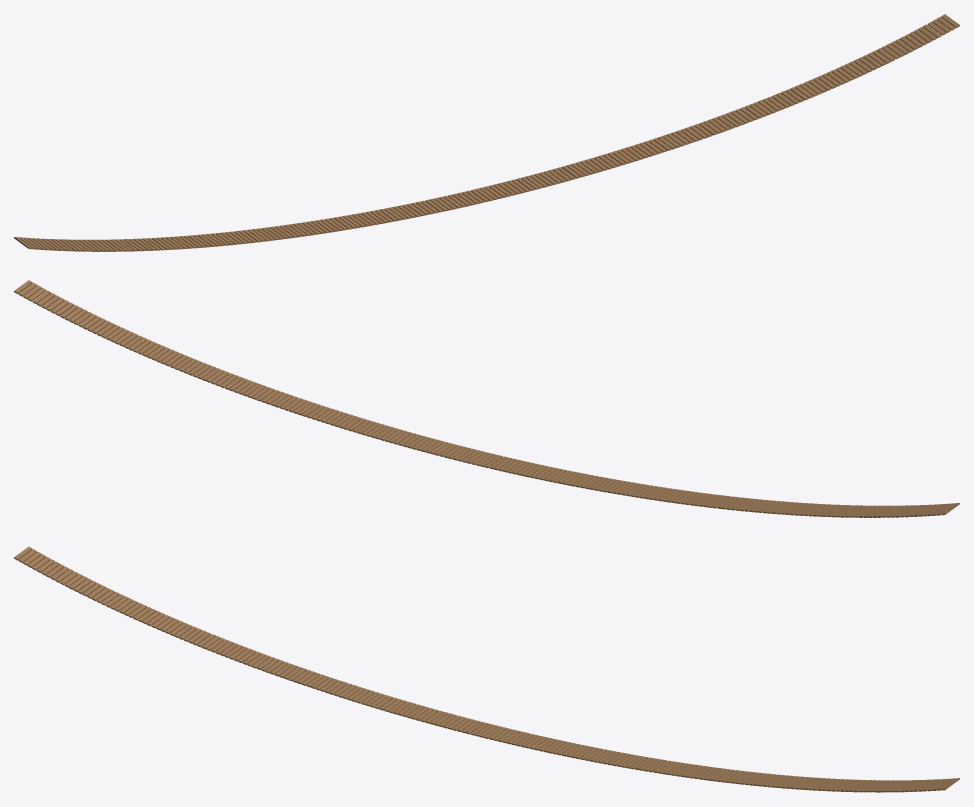
The model's file is pont.fbx.
3 renders of one model, top to bottom at view 1: azimuth 30°, elevation 25°; view 2: azimuth 150°, elevation 25°; view 3: azimuth 330°, elevation 25°, orthographic.
Visible parts, largest first — view 1: Cube.105; view 2: Cube.105; view 3: Cube.105.
Boxes of the visible parts, left/top/right/bottom form: Cube.105: left=14, top=14, right=959, bottom=251; Cube.105: left=14, top=280, right=959, bottom=517; Cube.105: left=14, top=546, right=959, bottom=792.
Bounding box in the file's own units: 2956 × 201 × 80.88.
